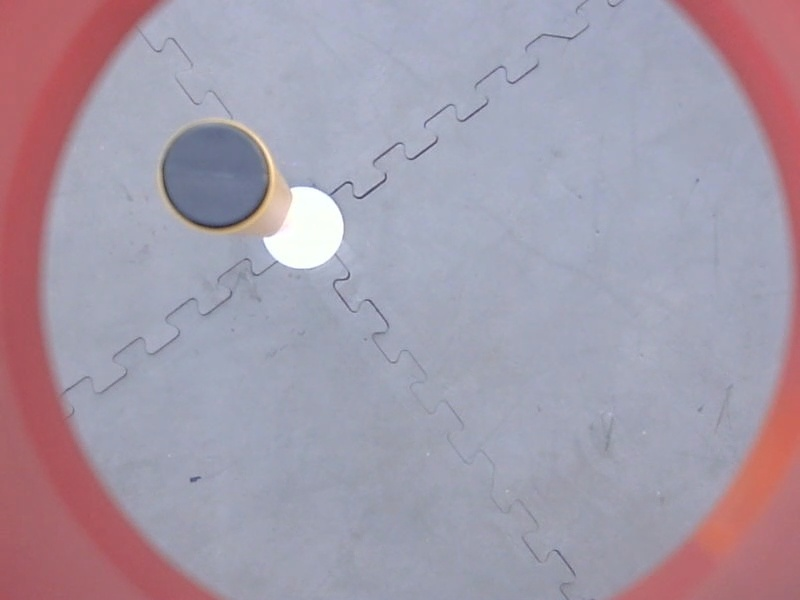tip: (154, 114, 279, 237)
